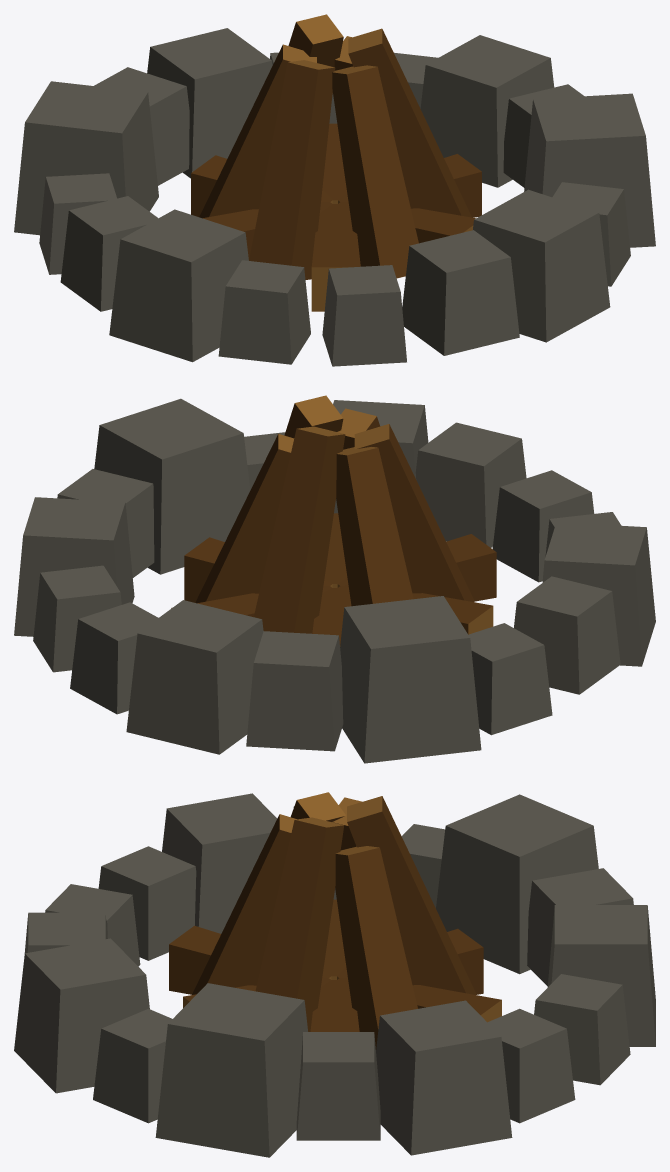
Rendered from WinterFire.fbx.
The picture shows the model from 3 angles, top to bottom: view 1: azimuth 30°, elevation 25°; view 2: azimuth 150°, elevation 25°; view 3: azimuth 270°, elevation 25°; orthographic projection. The views are drawn at different scales.
Visible parts, largest first — view 1: WinterFire; view 2: WinterFire; view 3: WinterFire.
Boxes of the visible parts, x1,y1,x2,y2 form: WinterFire: [14, 14, 655, 366]; WinterFire: [14, 395, 655, 763]; WinterFire: [14, 792, 655, 1157].
Size of the model in its own units: 0.1797 by 0.0668 by 0.1786.
